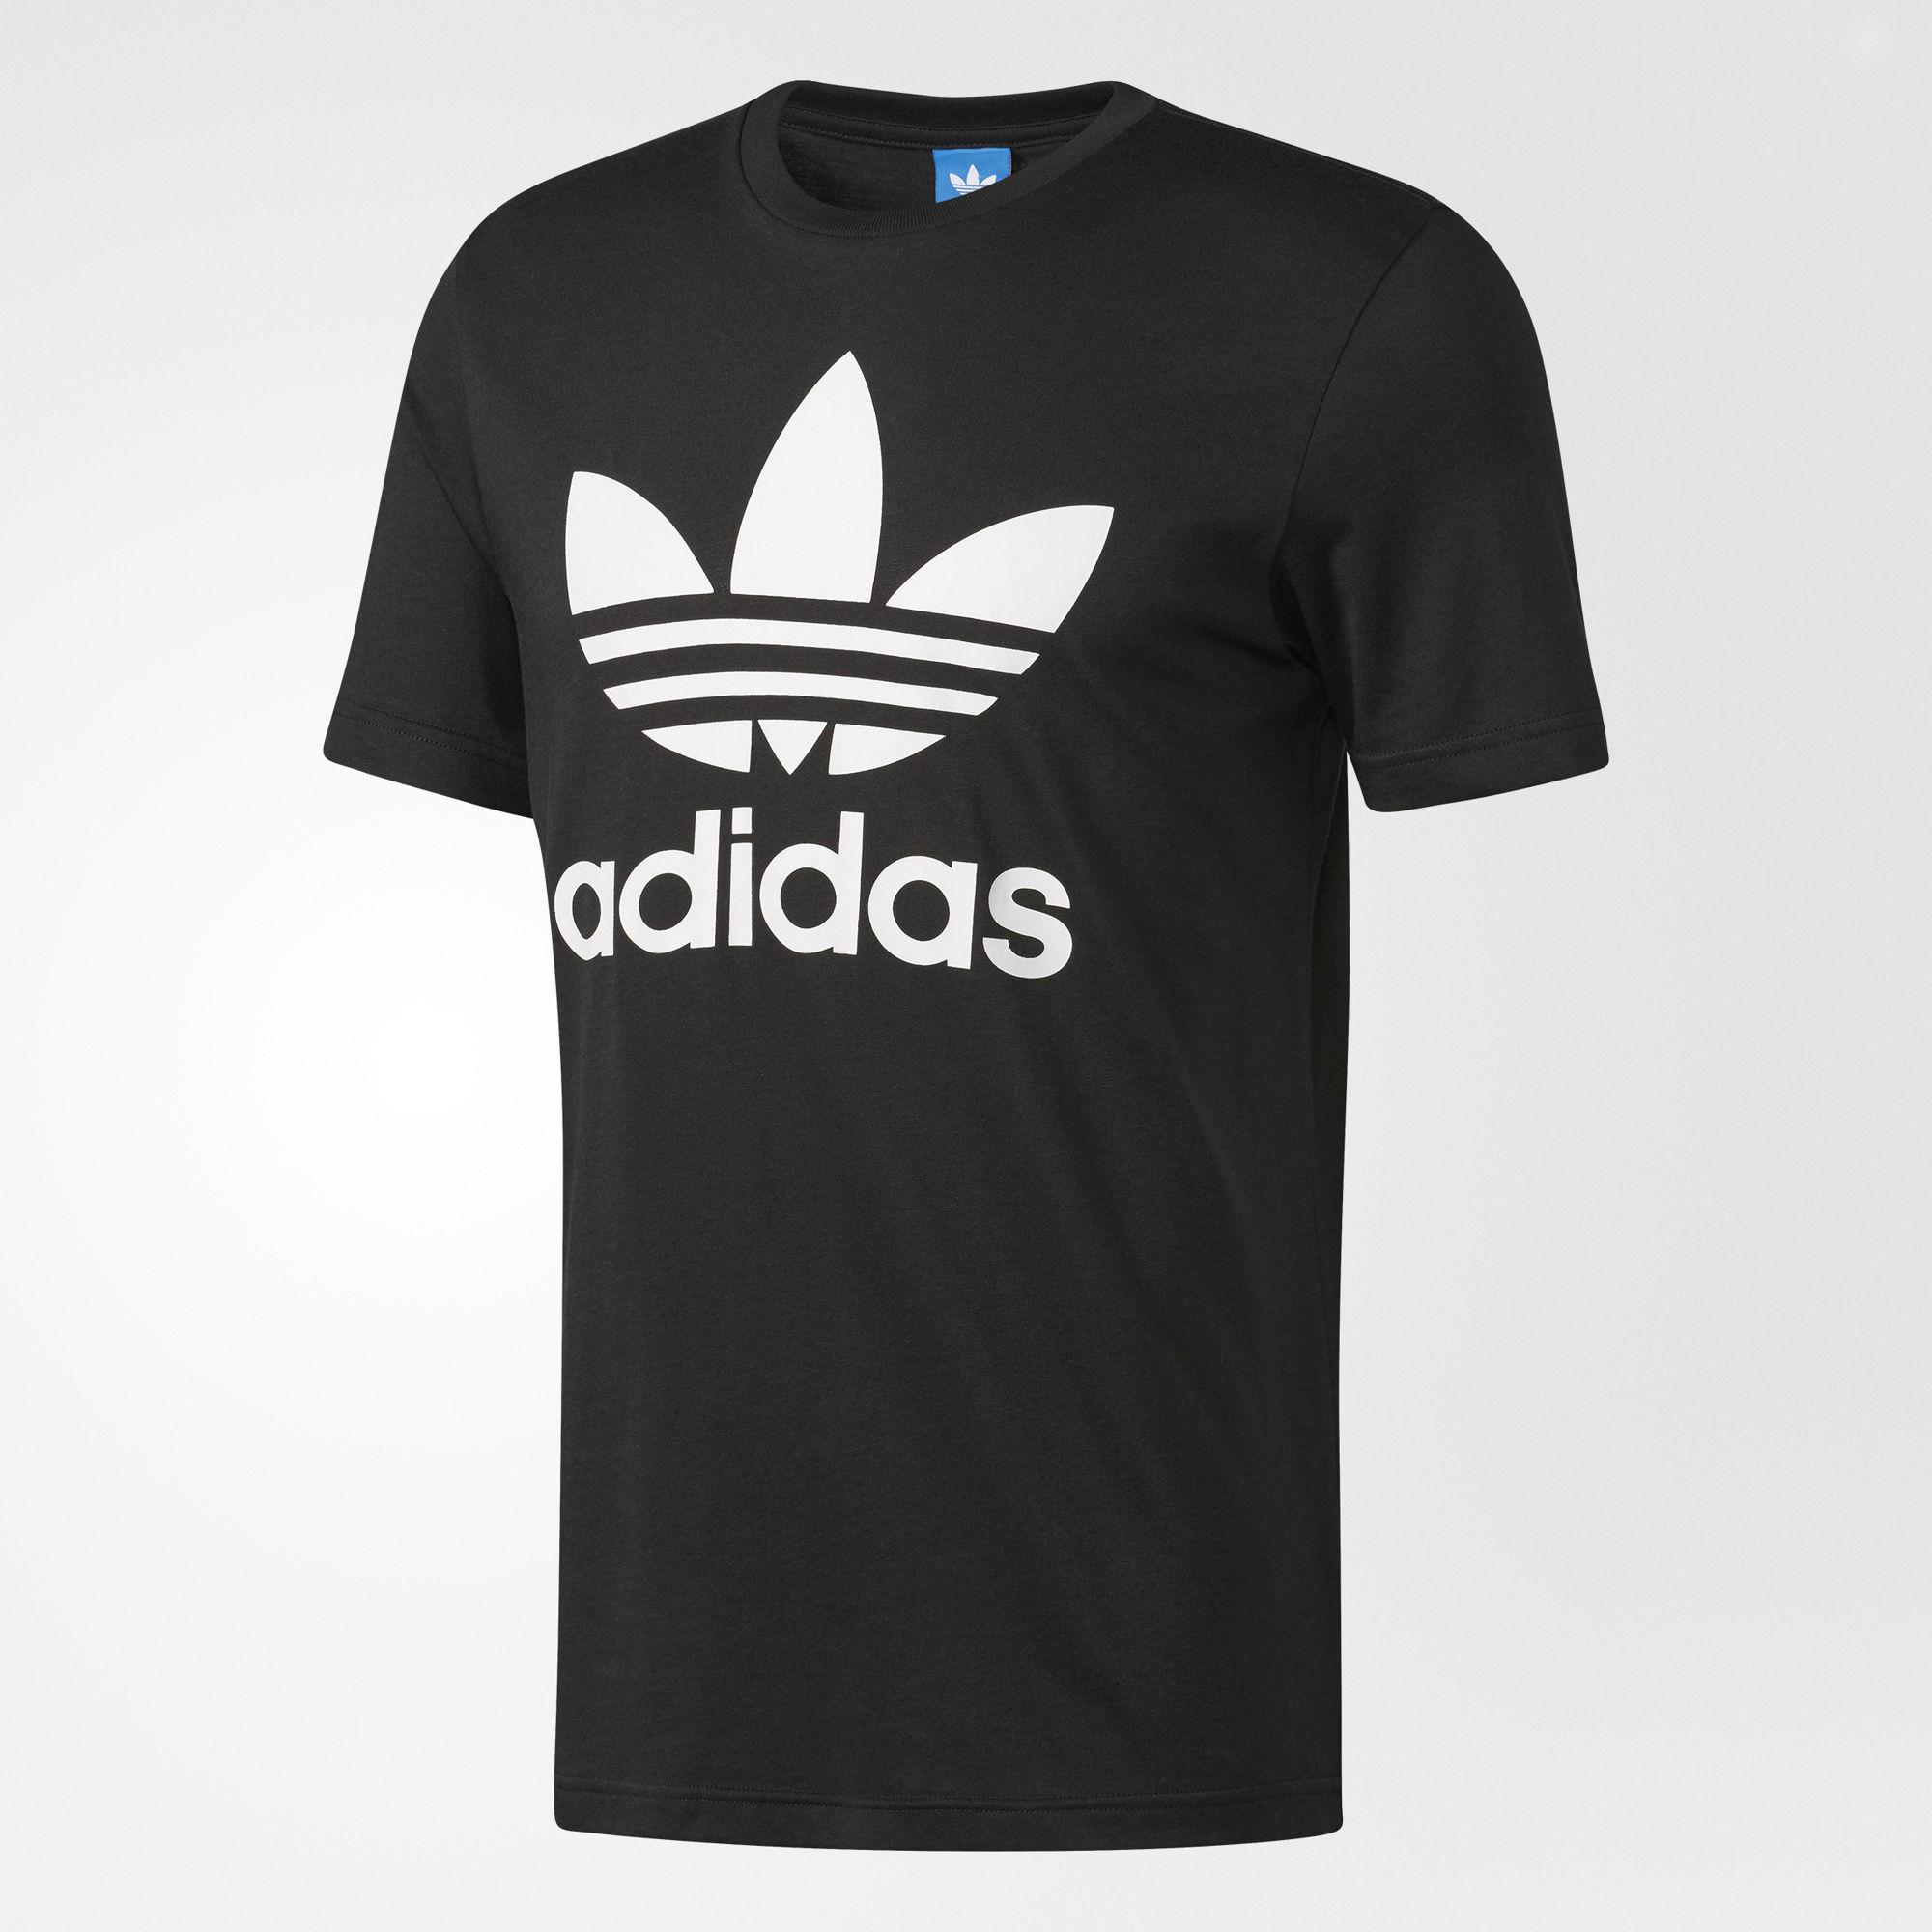teeshirt: (290, 46, 1702, 1893)
